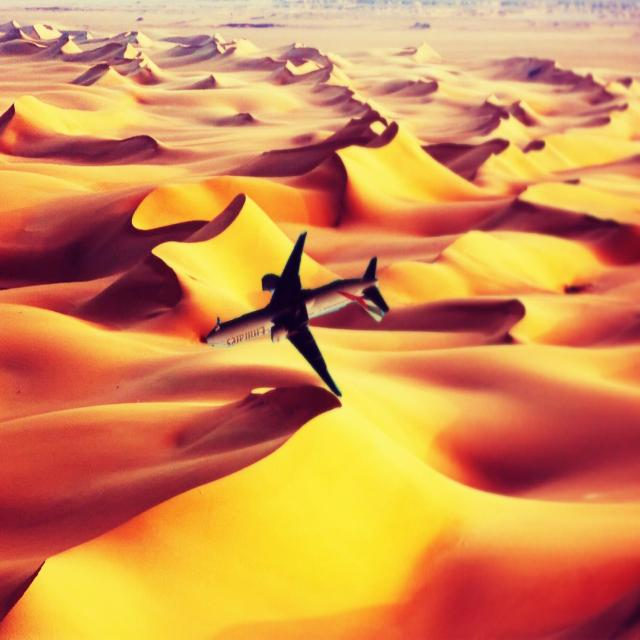airplane: (206, 229, 390, 398)
